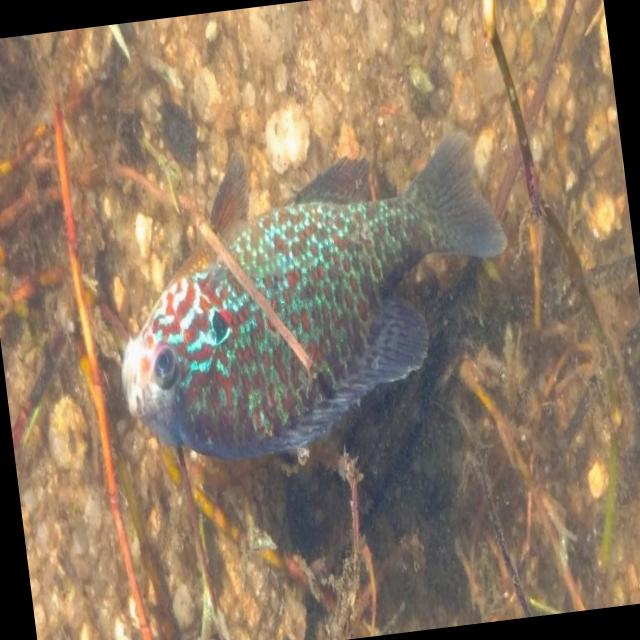Gunes Levregi: (90, 121, 550, 502)
